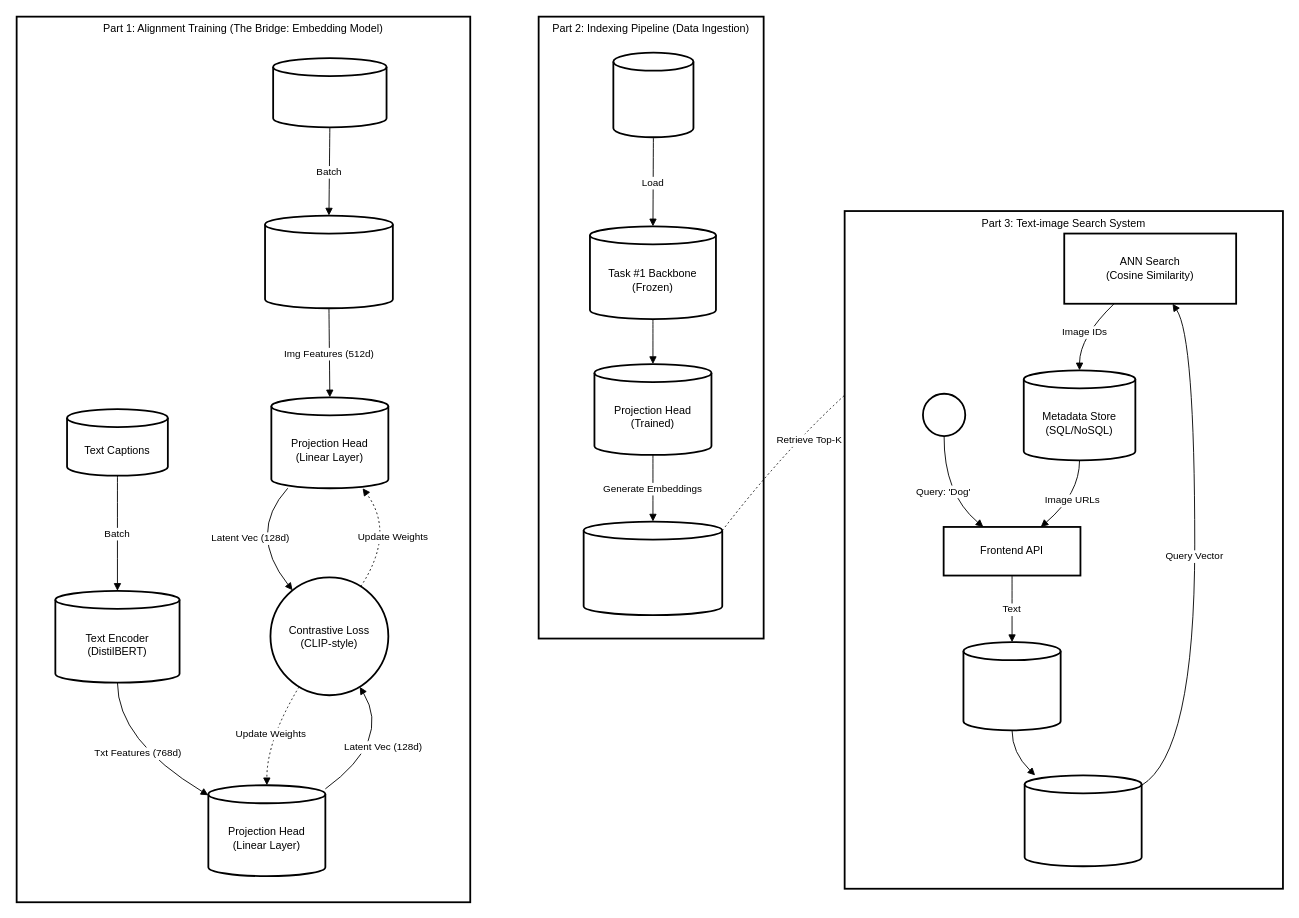
The diagram is 1299 pixels wide and 918 high, and some of its shapes have lost their labels. Each missing label, with the centre of its shape:
Full Image Database: the point at 653,94
Projection Head: the point at 1082,820
Task 1 Model (Modified ResNet): the point at 328,261
Text Encoder/ Text Embedding Model: the point at 1011,686
Training Images: the point at 329,92
User: the point at 944,414
Vector Database: the point at 652,568
